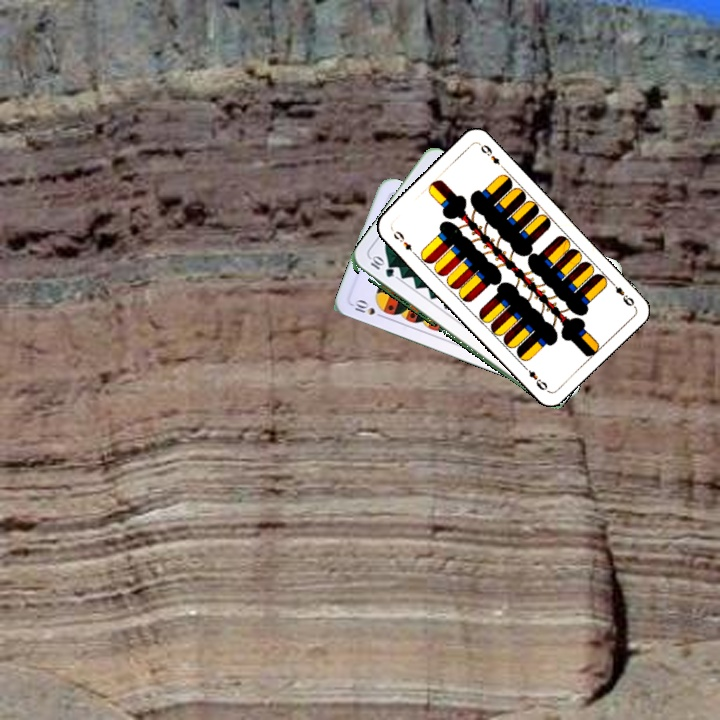E9: (606, 276, 637, 309), (389, 227, 418, 258)
G10: (366, 254, 396, 280)
S10: (348, 296, 387, 321)
